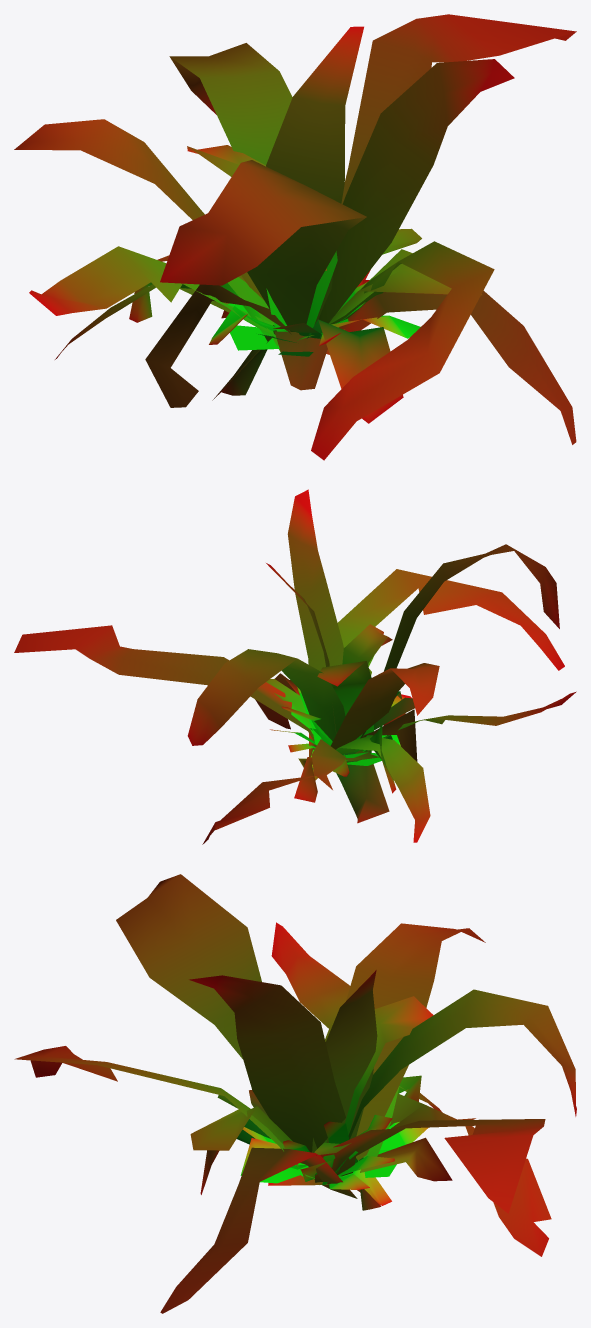
File: Fern_LOD2_Var2_sbslY.fbx
The picture shows the model from 3 angles, top to bottom: view 1: azimuth 30°, elevation 25°; view 2: azimuth 150°, elevation 25°; view 3: azimuth 270°, elevation 25°; orthographic projection. The views are drawn at different scales.
Visible parts, largest first — view 1: _ad87_Var2_LOD2; view 2: _ad87_Var2_LOD2; view 3: _ad87_Var2_LOD2.
Part boxes in pixels (x1,y1,x2,y2): _ad87_Var2_LOD2: [14, 14, 576, 460]; _ad87_Var2_LOD2: [14, 489, 576, 844]; _ad87_Var2_LOD2: [14, 874, 576, 1313].
Bounding box in the file's own units: 164 × 86.26 × 138.
